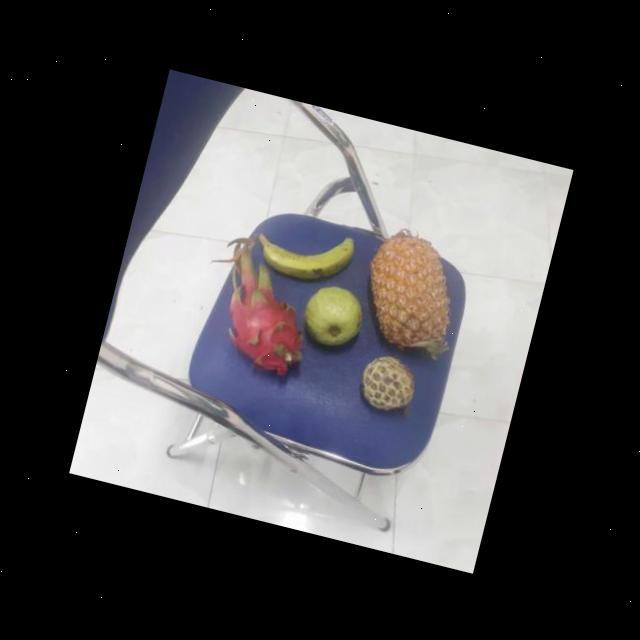Sakya fruit: (355, 350, 425, 417)
banana: (252, 210, 359, 290)
guava: (295, 278, 372, 352)
pineapple: (352, 226, 473, 362)
pitaya: (214, 251, 324, 376)
